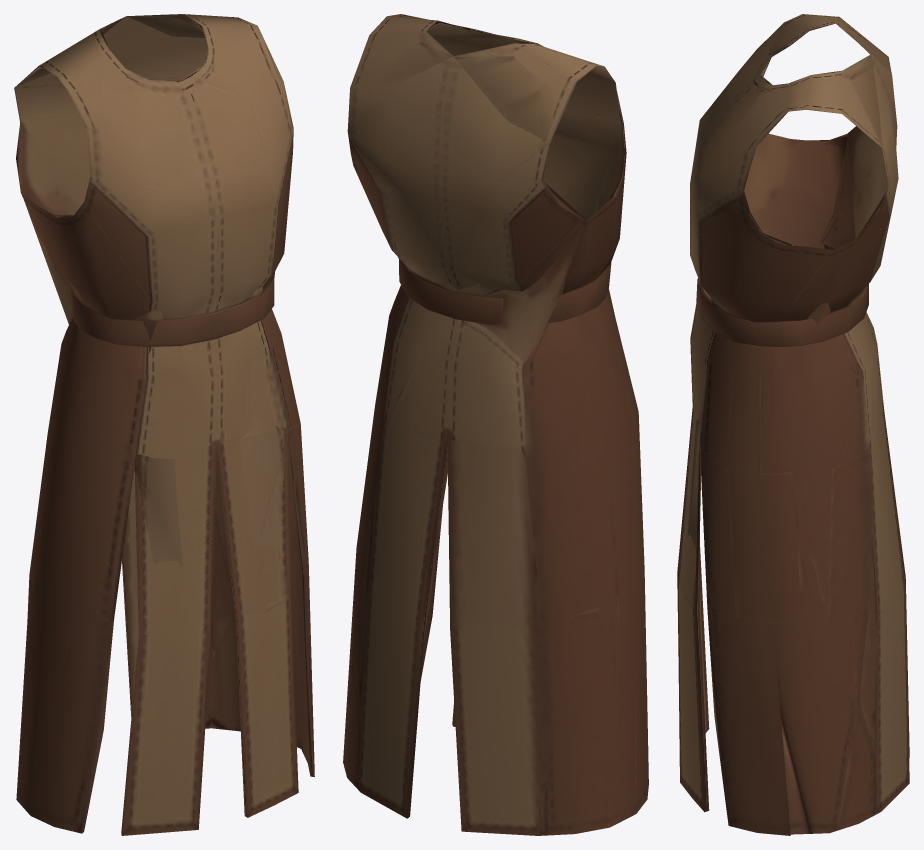
File: chest-training.glb
The picture shows the model from 3 angles, left to right: view 1: azimuth 30°, elevation 25°; view 2: azimuth 150°, elevation 25°; view 3: azimuth 270°, elevation 25°; orthographic projection. The views are drawn at different scales.
Parts seen in each view (by area): view 1: training_vest; view 2: training_vest; view 3: training_vest.
Part boxes in pixels (x1=…): training_vest: x1=14, y1=14, x2=314, y2=835; training_vest: x1=343, y1=14, x2=648, y2=835; training_vest: x1=677, y1=14, x2=909, y2=835.
Bounding box in the file's own units: 0.54 × 1.42 × 0.41.
Materials: 1 (1 with a texture image).
